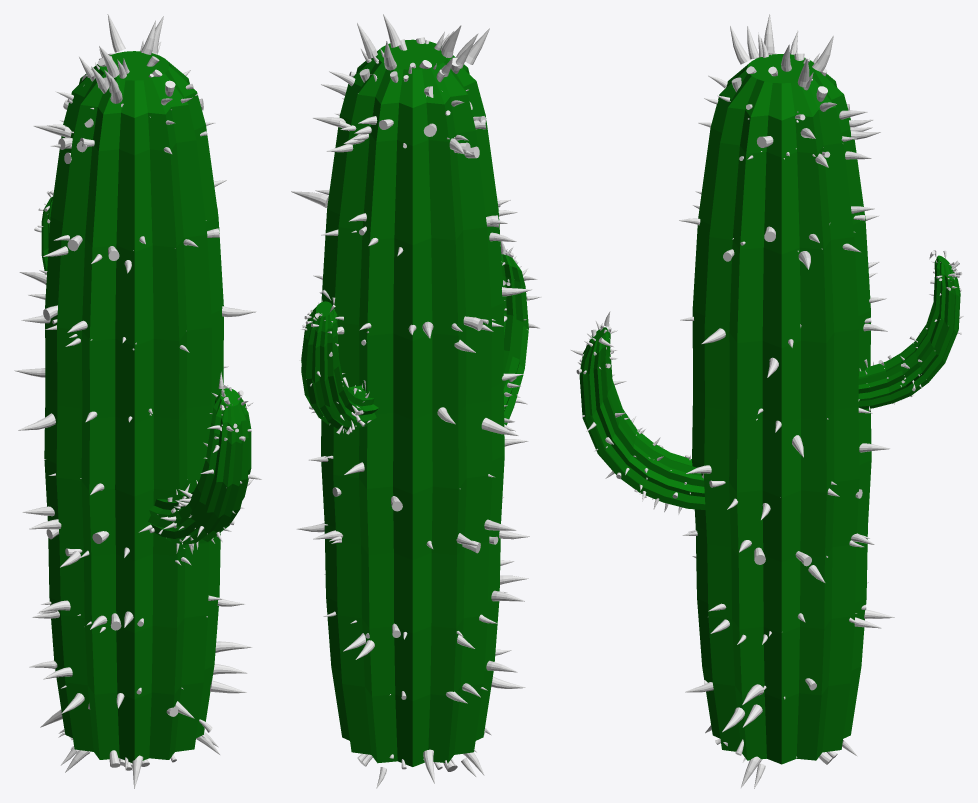
File: Kaktus02 (1).fbx
3 renders of one model, left to right at view 1: azimuth 30°, elevation 25°; view 2: azimuth 150°, elevation 25°; view 3: azimuth 270°, elevation 25°, orthographic. The views are drawn at different scales.
Visible parts, largest first — view 1: Cactus2, Cactus2Ast2, Cactus2Ast1; view 2: Cactus2, Cactus2Ast1, Cactus2Ast2; view 3: Cactus2, Cactus2Ast2, Cactus2Ast1.
Boxes of the visible parts, bbox=[...] form: Cactus2: bbox=[44, 51, 223, 763]; Cactus2Ast2: bbox=[148, 388, 251, 544]; Cactus2Ast1: bbox=[41, 196, 53, 274]; Cactus2: bbox=[321, 39, 504, 766]; Cactus2Ast1: bbox=[301, 301, 378, 429]; Cactus2Ast2: bbox=[501, 254, 528, 425]; Cactus2: bbox=[692, 54, 871, 764]; Cactus2Ast2: bbox=[579, 327, 705, 509]; Cactus2Ast1: bbox=[858, 255, 960, 408].
Size of the model in its own units: 2.89 by 9.32 by 4.59.
